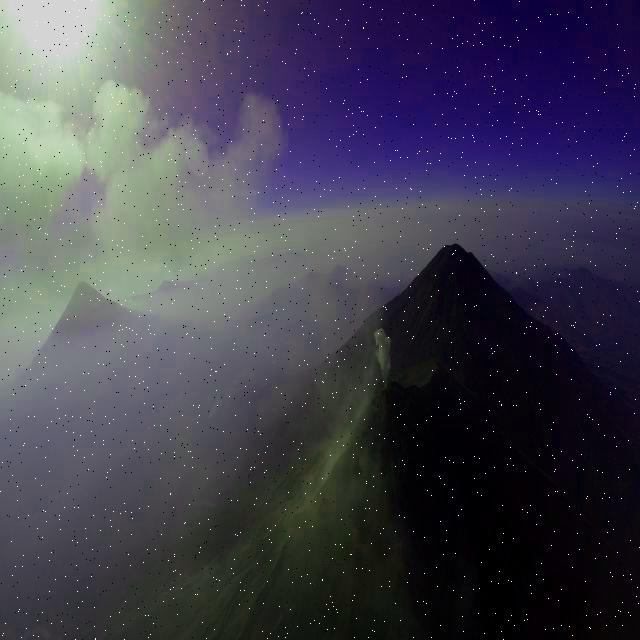Plume: (84, 88, 284, 270), (0, 87, 85, 248), (374, 326, 394, 382)
Summit: (372, 376, 399, 394)
